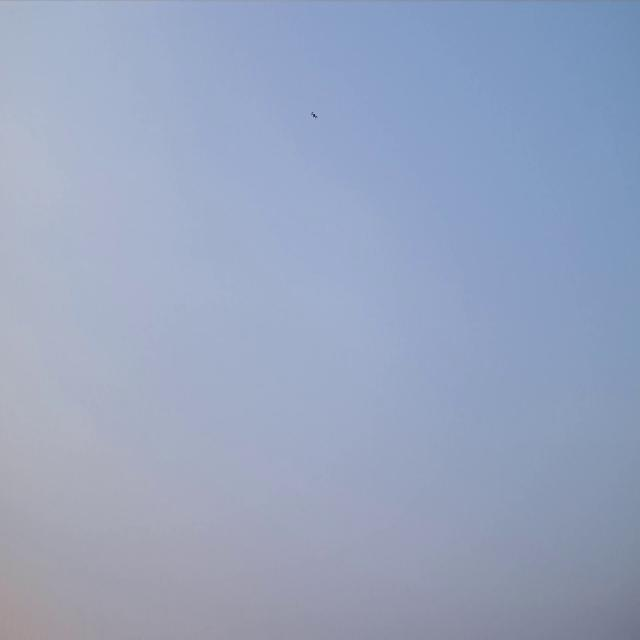UAV: (310, 111, 318, 120)
